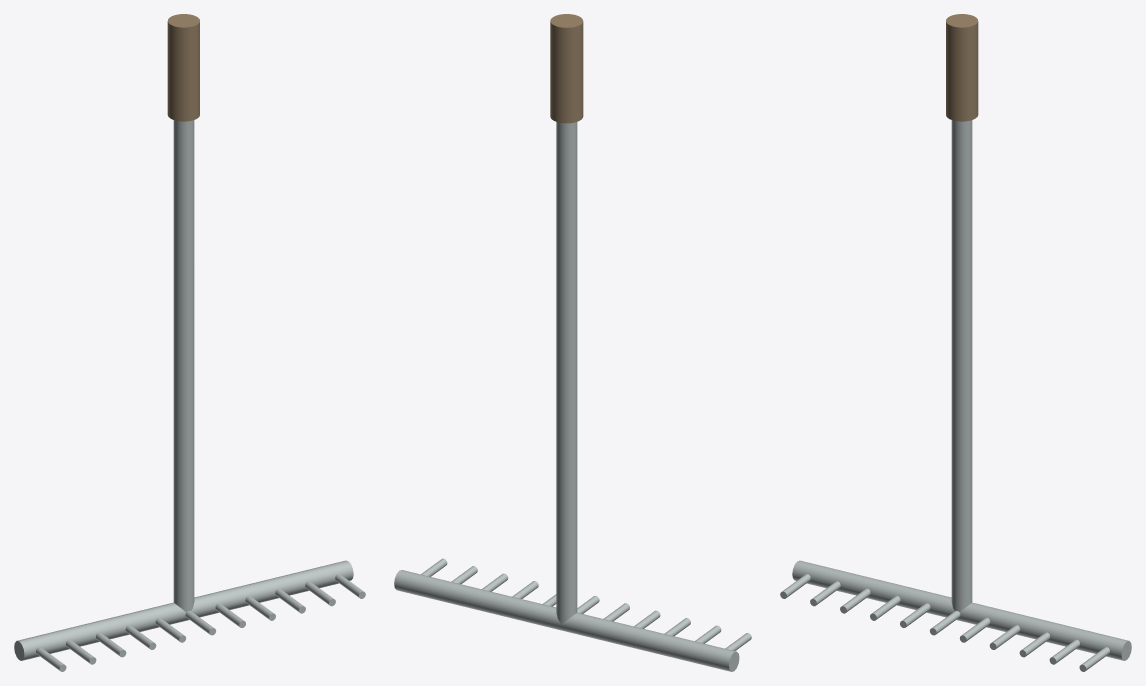
File: abandoned-tidal-model-testing-hall-sediment-level-rake-ec919202__32365.glb
The picture shows the model from 3 angles, left to right: view 1: azimuth 30°, elevation 25°; view 2: azimuth 150°, elevation 25°; view 3: azimuth 330°, elevation 25°; orthographic projection.
Visible parts, largest first — view 1: sediment-level-rake; view 2: sediment-level-rake; view 3: sediment-level-rake.
Boxes of the visible parts, x1,y1,x2,y2 form: sediment-level-rake: (14, 14, 365, 671); sediment-level-rake: (394, 14, 751, 671); sediment-level-rake: (780, 14, 1131, 671).
Bounding box in the file's own units: 0.6599 × 1.15 × 0.128.
